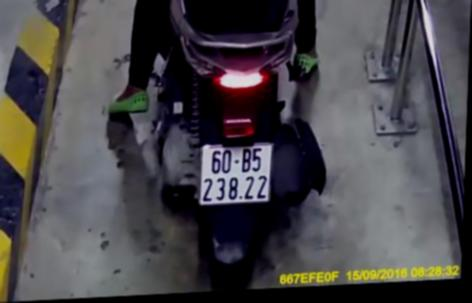License_Plate: (189, 136, 280, 212)
